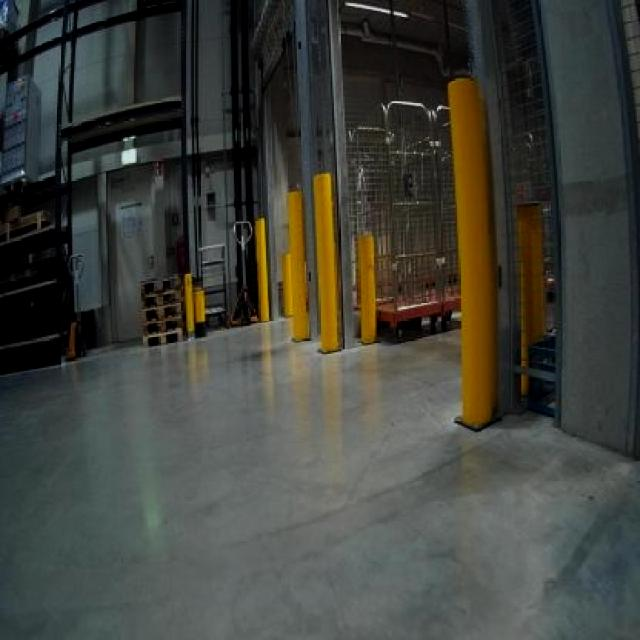floor: (0, 318, 637, 637)
pallets: (345, 98, 455, 332), (0, 195, 57, 369), (138, 275, 180, 343)
